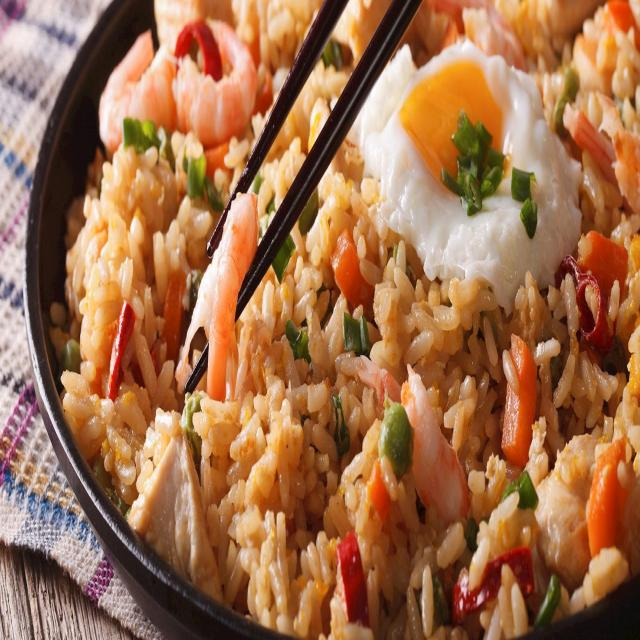Nasi Goreng: (69, 10, 640, 633)
